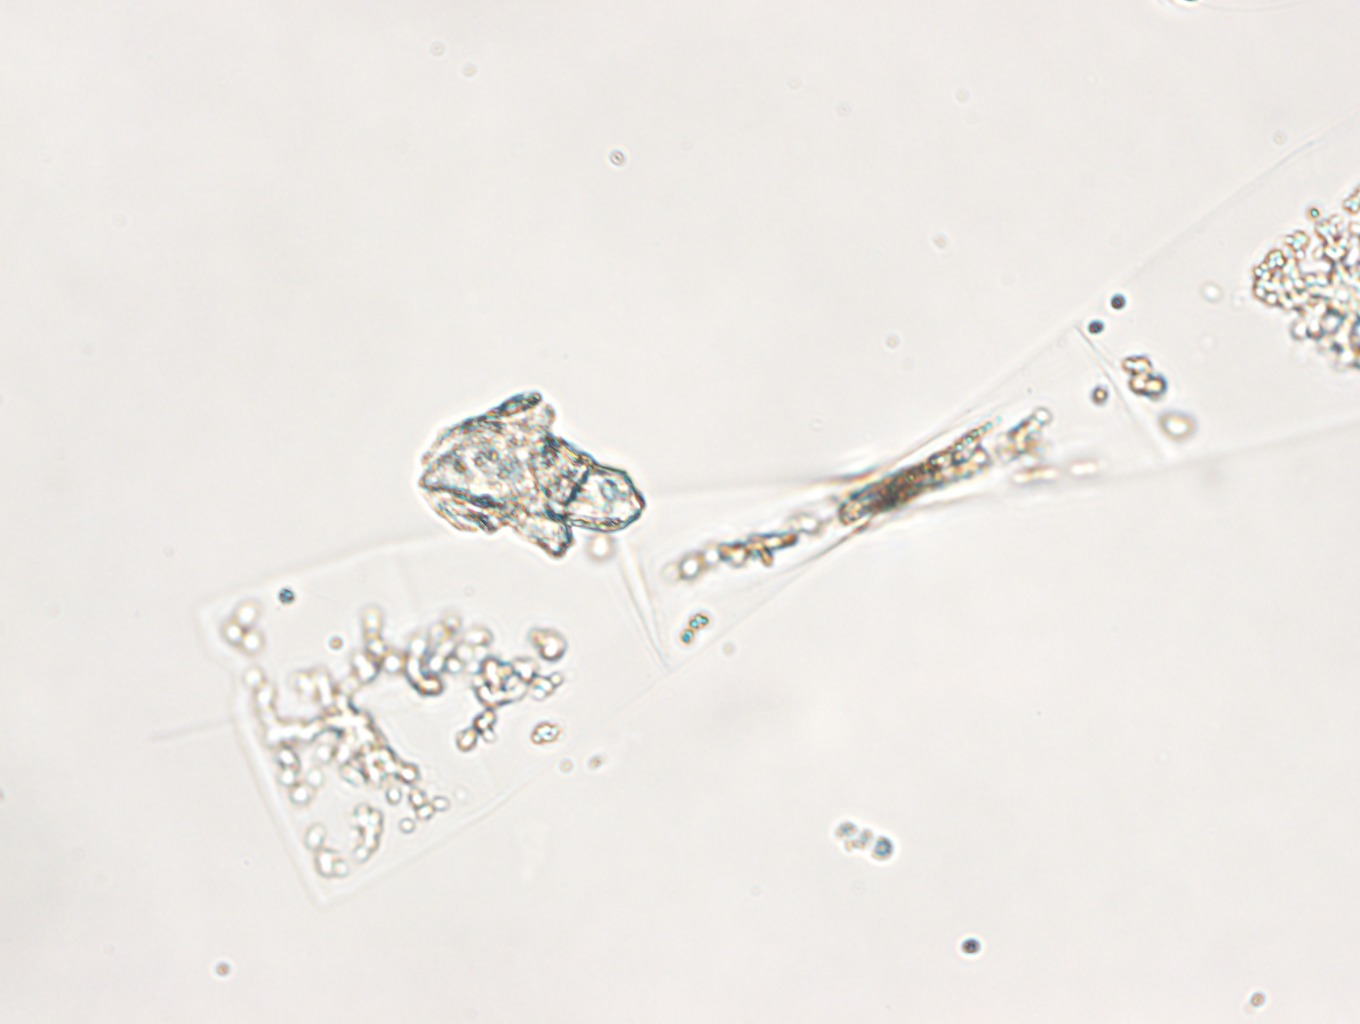helicotheca: (191, 113, 1360, 913)
